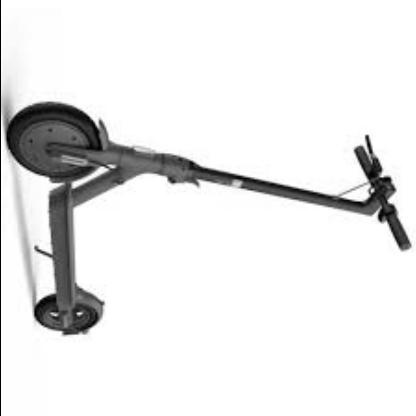bike: (11, 101, 413, 338)
